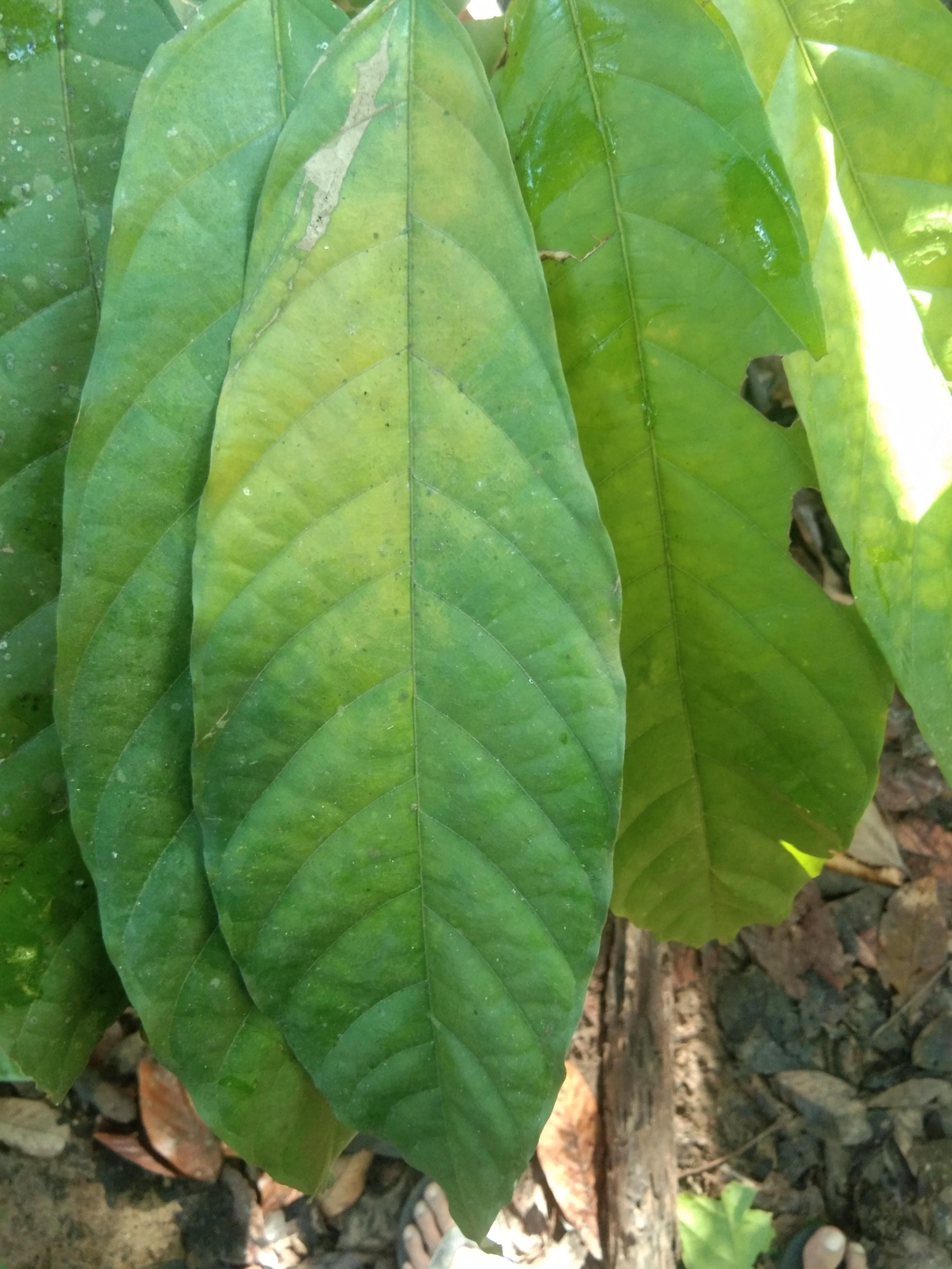deficiencia_potasio: (185, 0, 631, 1254)
